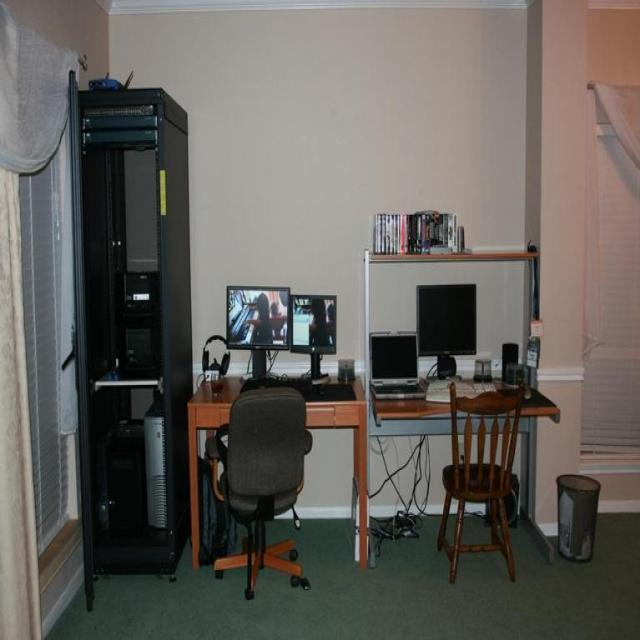chair: (436, 380, 524, 584)
cupboard: (72, 83, 193, 606)
curtains: (580, 80, 639, 454)
table: (187, 372, 368, 572)
television: (226, 284, 290, 385), (416, 282, 476, 378)
